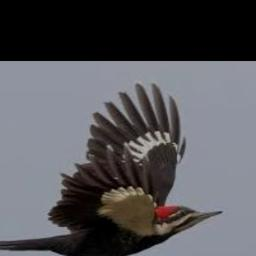Woodpecker: (0, 83, 224, 256)
